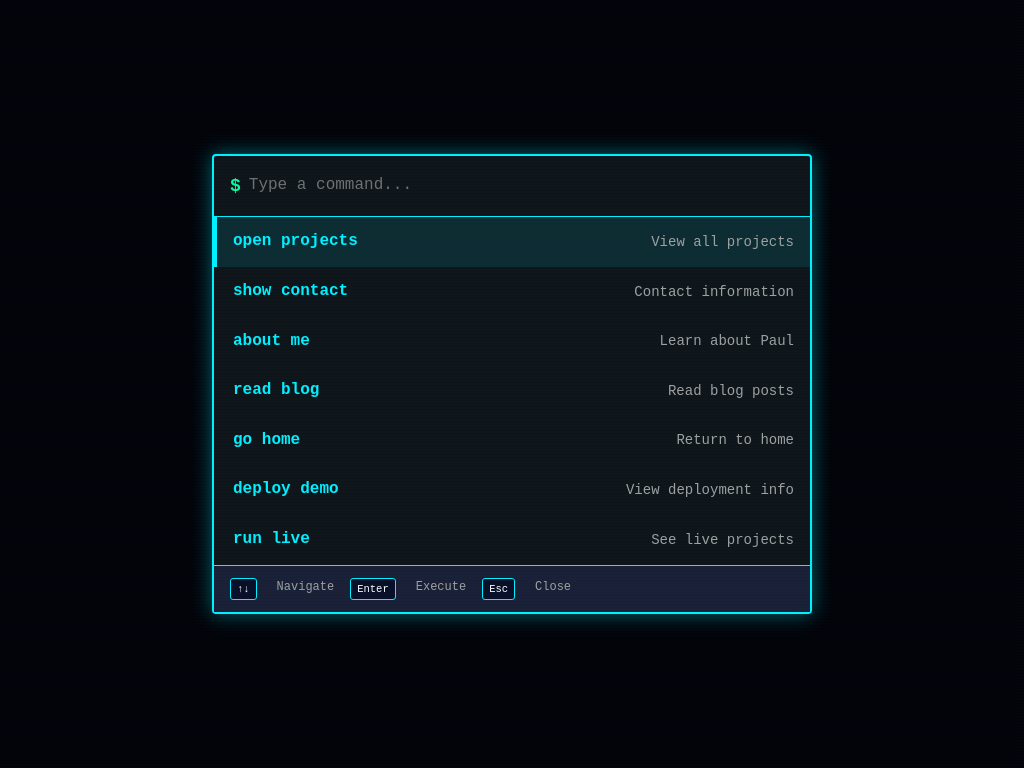
CommandPalette Component › filters commands based on input
Type "project" into the field named "Command input". click: (521, 186)
box: [249,173,794,199]
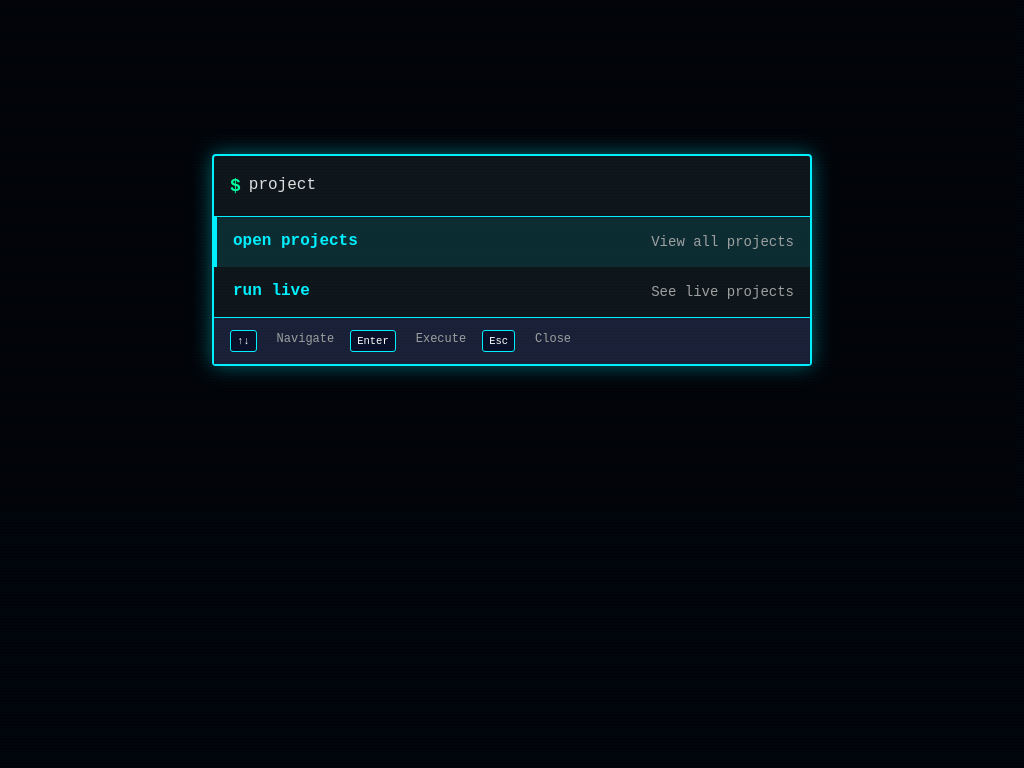
Expected: the text "open projects" is shown, [233,229,358,255]
Result: the text "show contact" is gone
